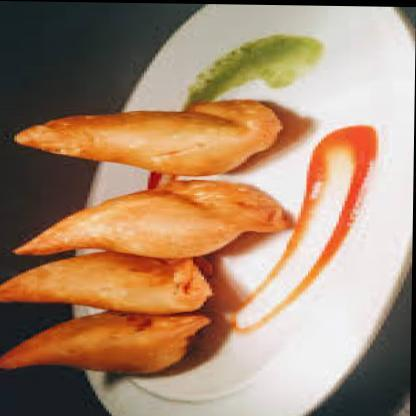samosa: (15, 177, 294, 258), (15, 95, 282, 176), (0, 308, 211, 374), (0, 249, 214, 314)
